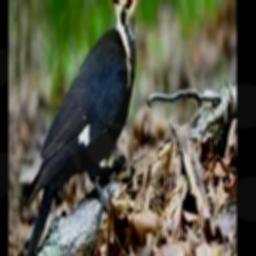Woodpecker: (17, 0, 160, 256)
